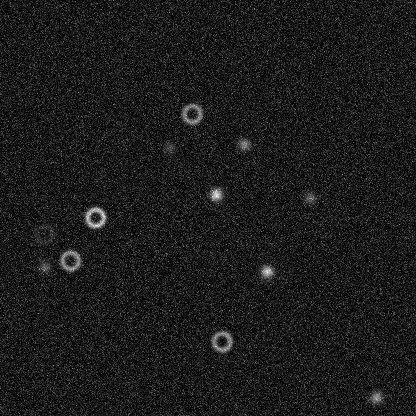Ring: (83, 205, 107, 229), (179, 101, 203, 125), (58, 248, 82, 272), (209, 329, 233, 353), (32, 222, 56, 246)
Spot: (235, 136, 251, 152), (258, 263, 274, 279), (161, 139, 177, 155), (301, 189, 317, 205), (208, 186, 224, 202), (368, 389, 384, 405), (36, 258, 52, 274)
